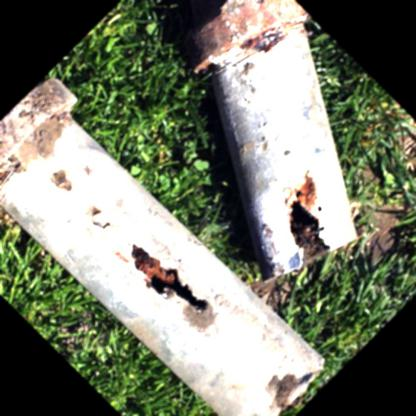burst: (130, 251, 215, 323), (262, 186, 336, 259)
